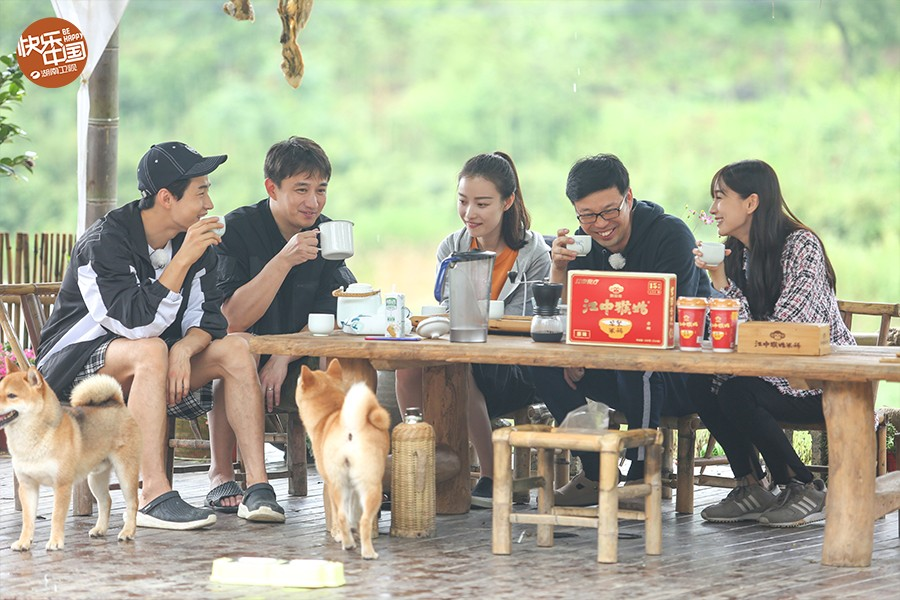box: (566, 265, 677, 349)
cup: (706, 296, 740, 351), (677, 295, 705, 354)
